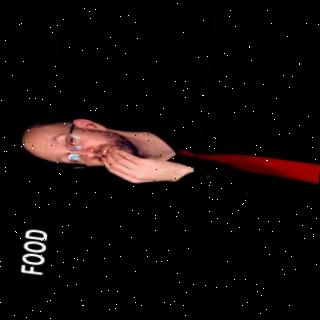Food: (11, 91, 311, 215)
